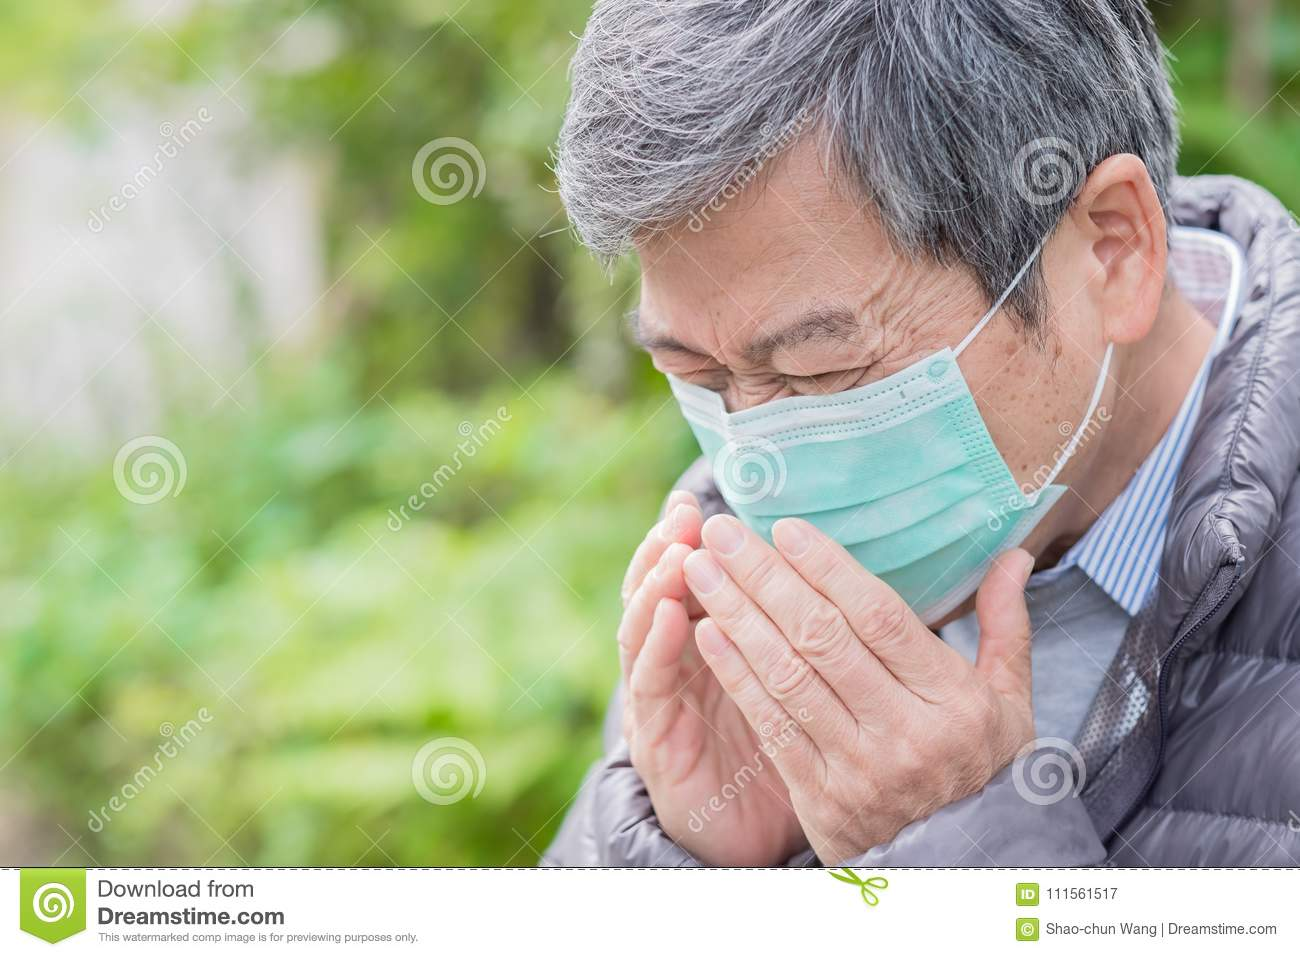mask: (667, 361, 1063, 638)
